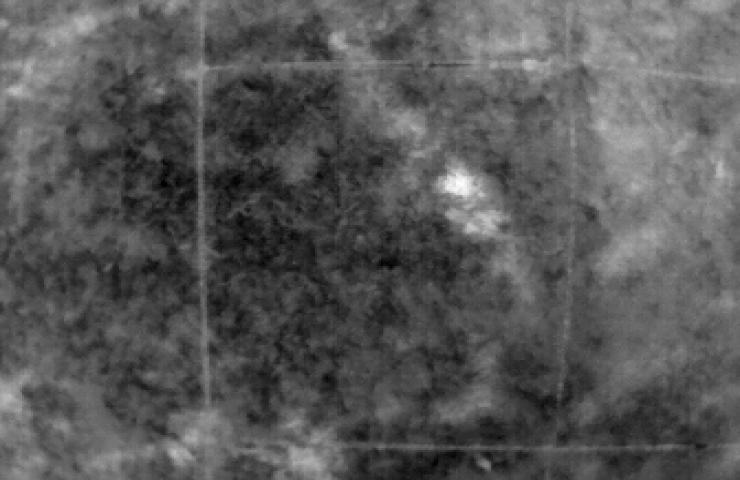landmines: (439, 165, 487, 202)
